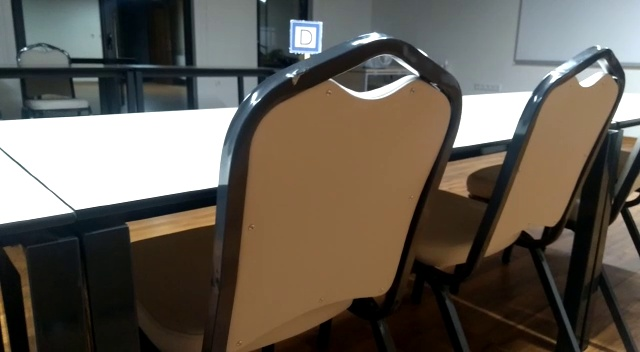durak: (288, 19, 323, 56)
